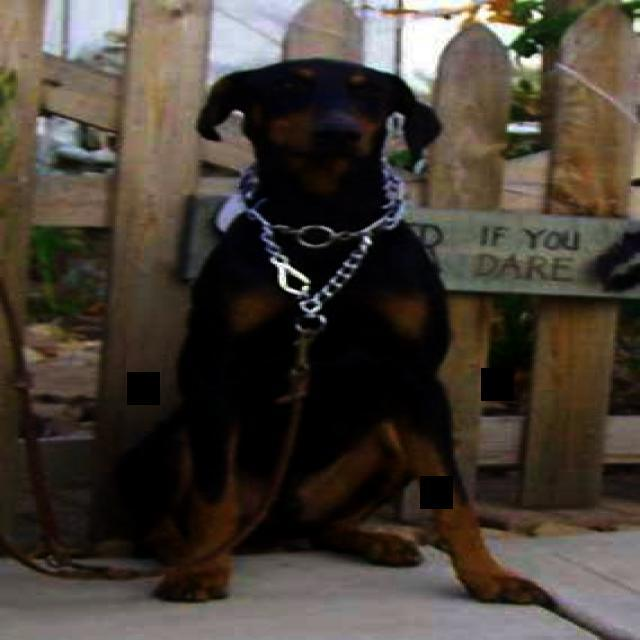adult_dog: (102, 56, 554, 610)
